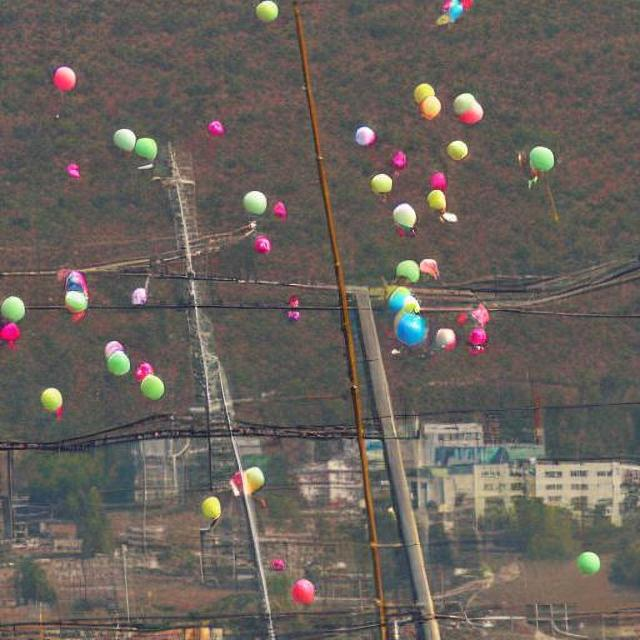balloon: (350, 124, 476, 302), (390, 298, 492, 353), (1, 279, 35, 360), (523, 144, 577, 193), (187, 487, 232, 530), (103, 336, 132, 389), (110, 128, 156, 161), (61, 268, 90, 315), (411, 80, 442, 121), (449, 90, 484, 125), (136, 367, 166, 401), (288, 576, 316, 607), (240, 188, 268, 216), (38, 385, 63, 416), (50, 64, 77, 92), (575, 548, 601, 577), (127, 288, 155, 314), (253, 0, 280, 22)
